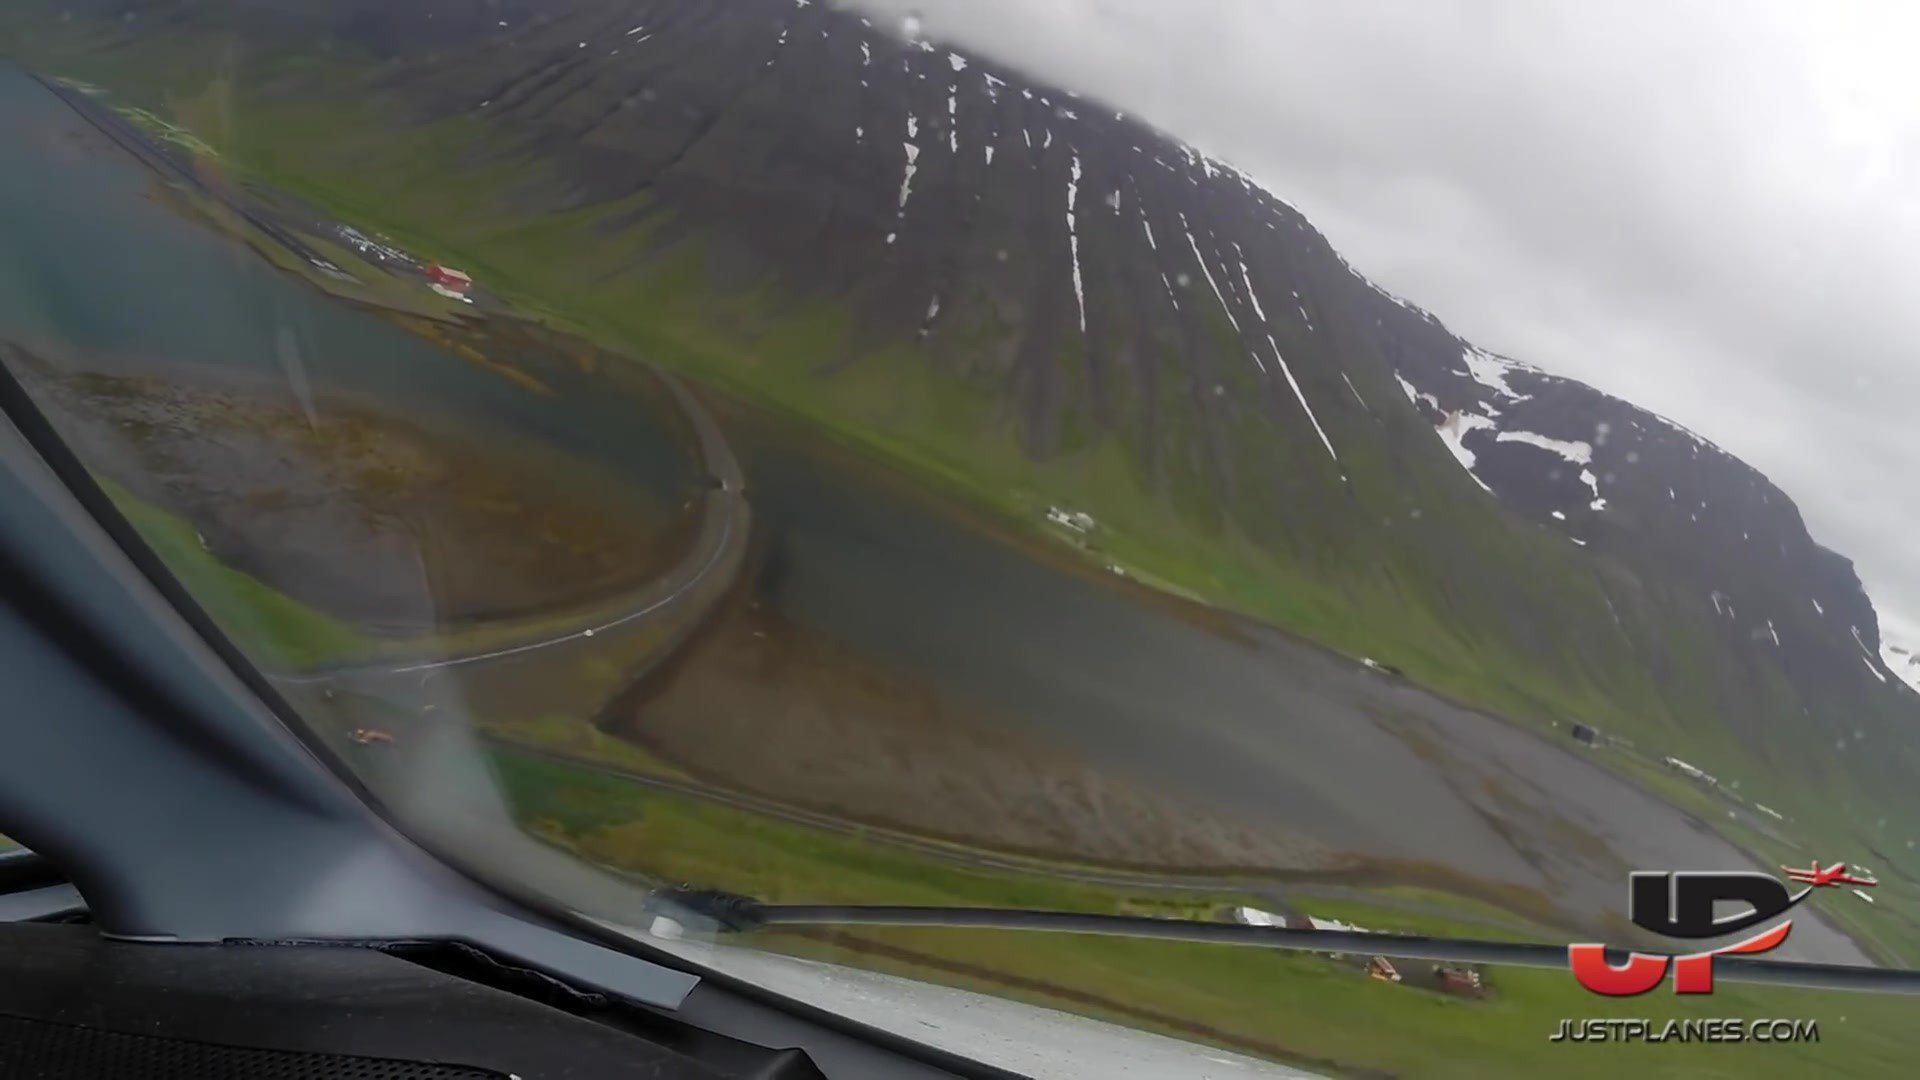runway: (204, 193, 372, 287)
